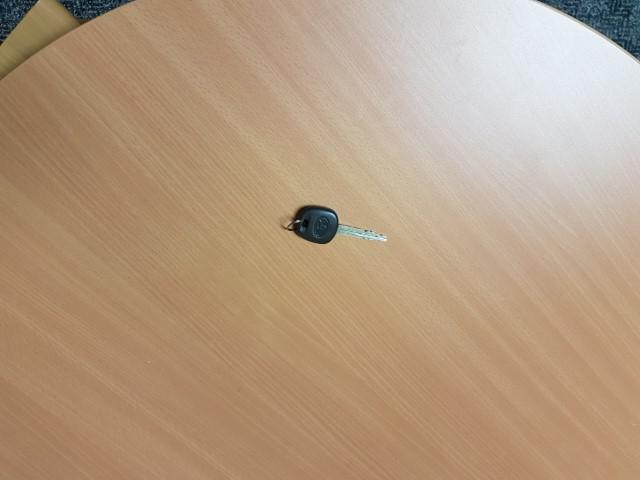key: (290, 206, 392, 246)
